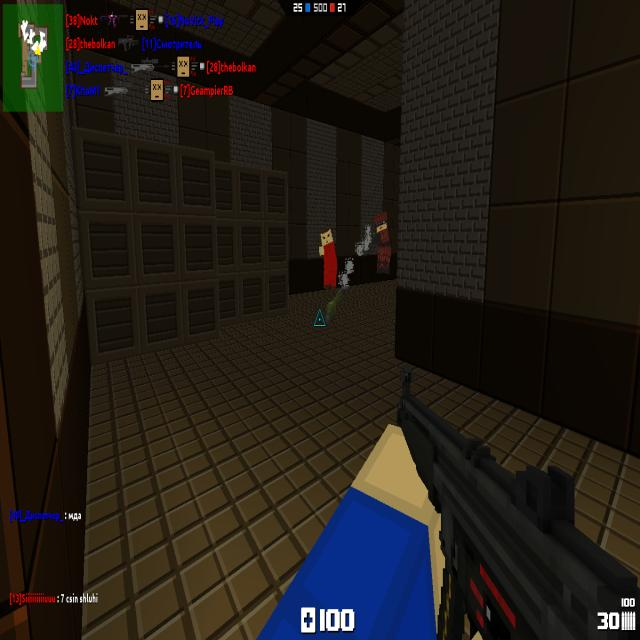enemy: (319, 227, 338, 291), (373, 210, 391, 276)
